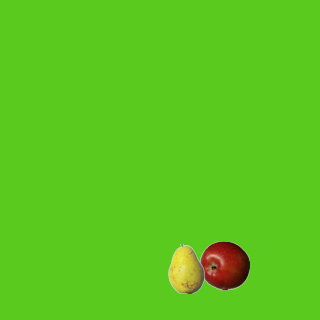Apple Braeburn: (199, 240, 249, 290)
Pear Monster: (161, 243, 211, 293)
